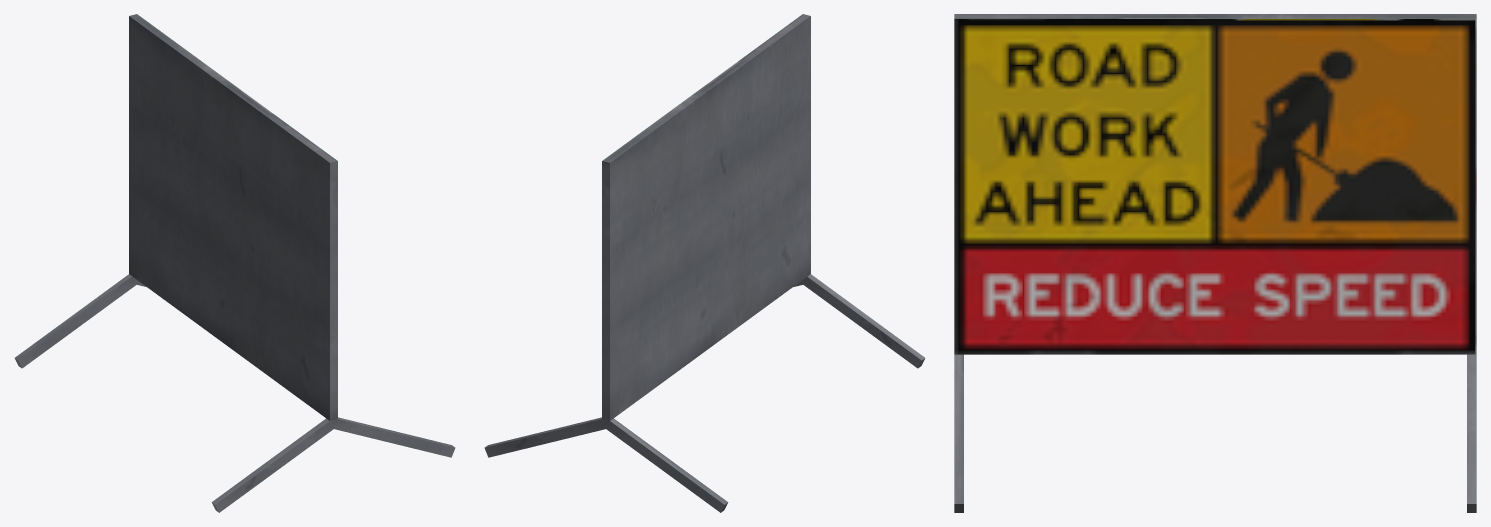
The model's file is Sign_ReduceSpeed_34.glb.
3 views of the same model, side by side, from view 1: azimuth 30°, elevation 25°; view 2: azimuth 150°, elevation 25°; view 3: azimuth 270°, elevation 25° (orthographic). The views are drawn at different scales.
Parts seen in each view (by area): view 1: jeffrey_mesh_001_object_72; view 2: jeffrey_mesh_001_object_72; view 3: jeffrey_mesh_001_object_72.
Part boxes in pixels (x1,y1,x2,y2): jeffrey_mesh_001_object_72: [14, 14, 455, 512]; jeffrey_mesh_001_object_72: [484, 14, 925, 512]; jeffrey_mesh_001_object_72: [954, 14, 1476, 512].
Bounding box in the file's own units: 3.8 × 4.9 × 5.5.
1 material, 1 textured.
